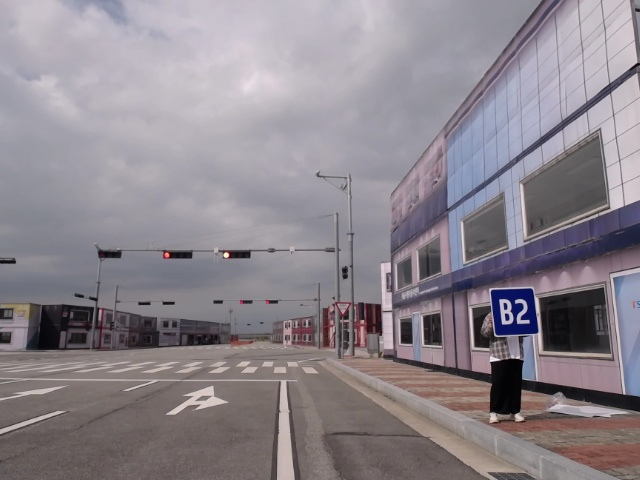delivery_b2: (488, 286, 542, 336)
red_4: (221, 246, 252, 261), (162, 247, 195, 261), (264, 298, 280, 306), (238, 298, 254, 305)
